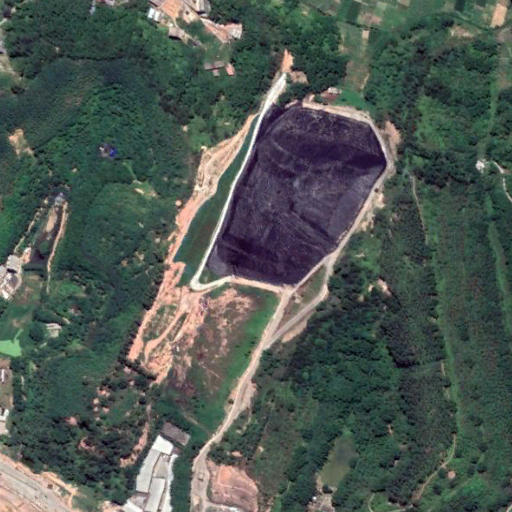lf: (204, 105, 386, 288)
